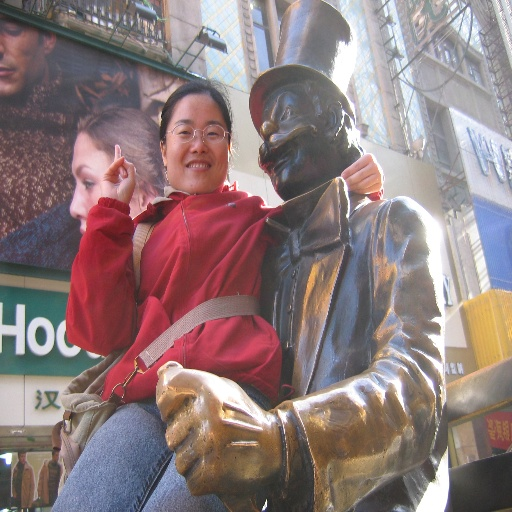hand: (153, 366, 284, 499), (100, 142, 136, 205), (339, 150, 384, 196)
